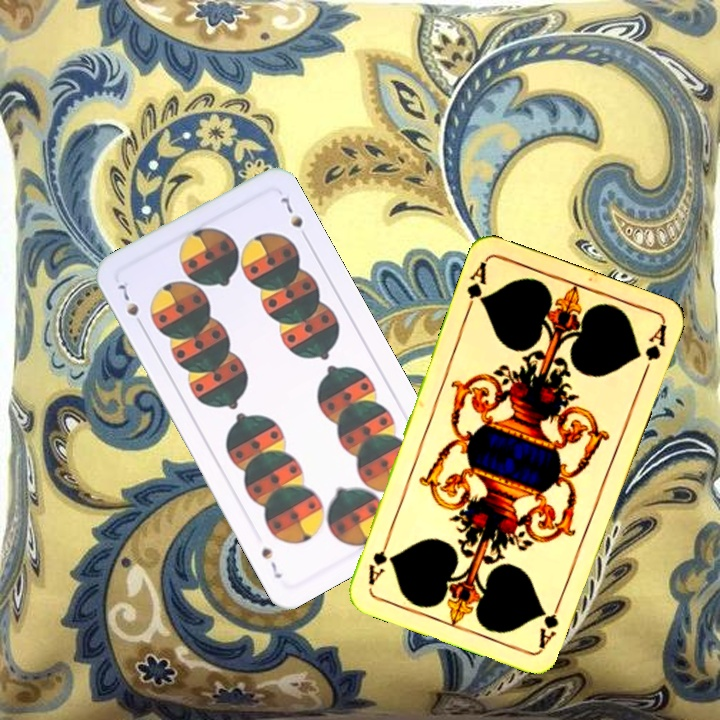GA: (534, 594, 565, 651), (462, 257, 489, 315)
S7: (115, 280, 147, 332)
